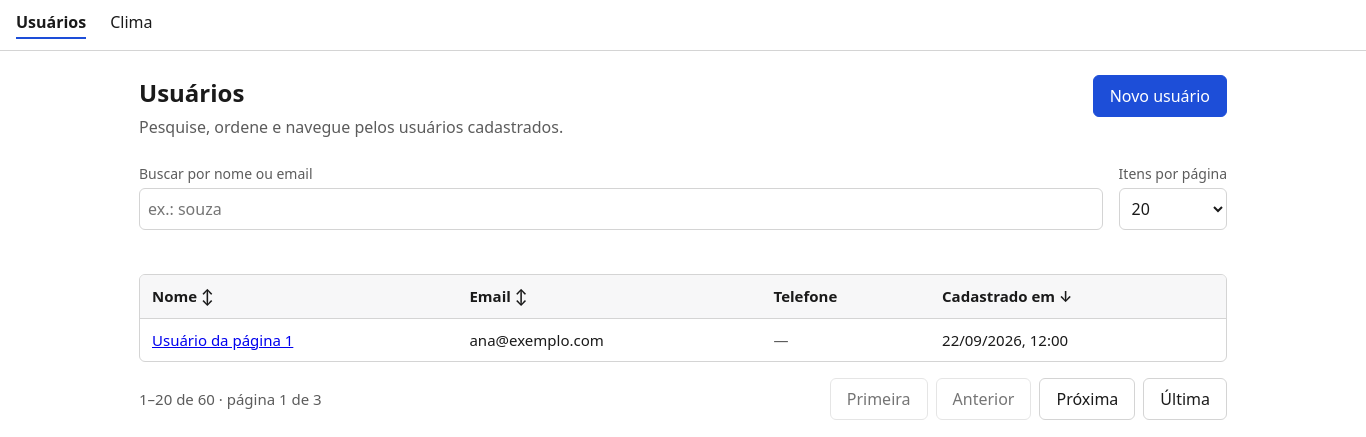
Scenario: estado de carregamento › mantém a tabela anterior visível ao trocar de página
The image size is (1366, 437).
Expected: the link "Usuário da página 1" is shown, [152,330,293,350]
Click the button "Próxima" at (1087, 399), box [1040,378,1135,420]
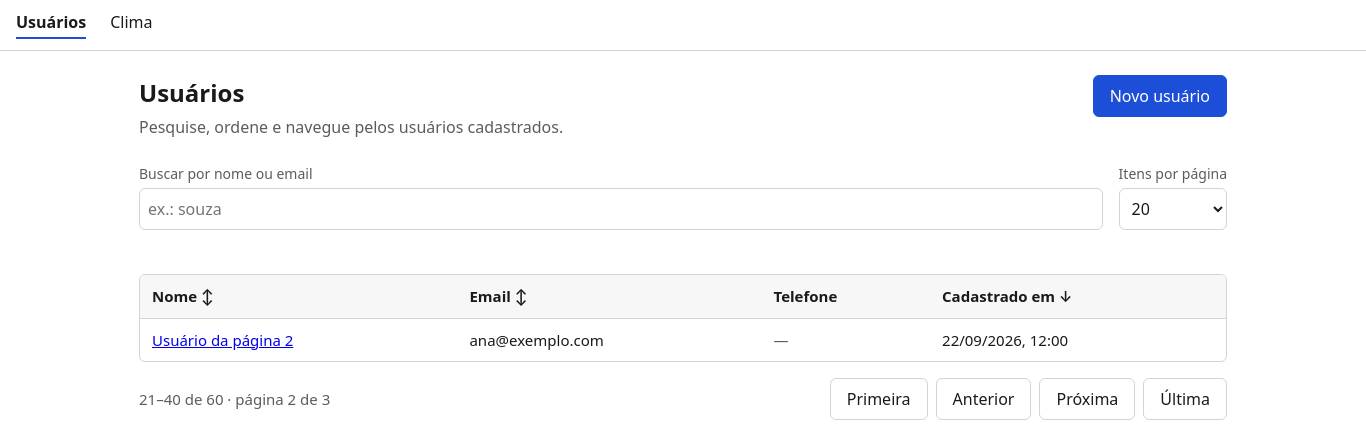
Now the link "Usuário da página 2" is shown, box [152,330,293,350]
